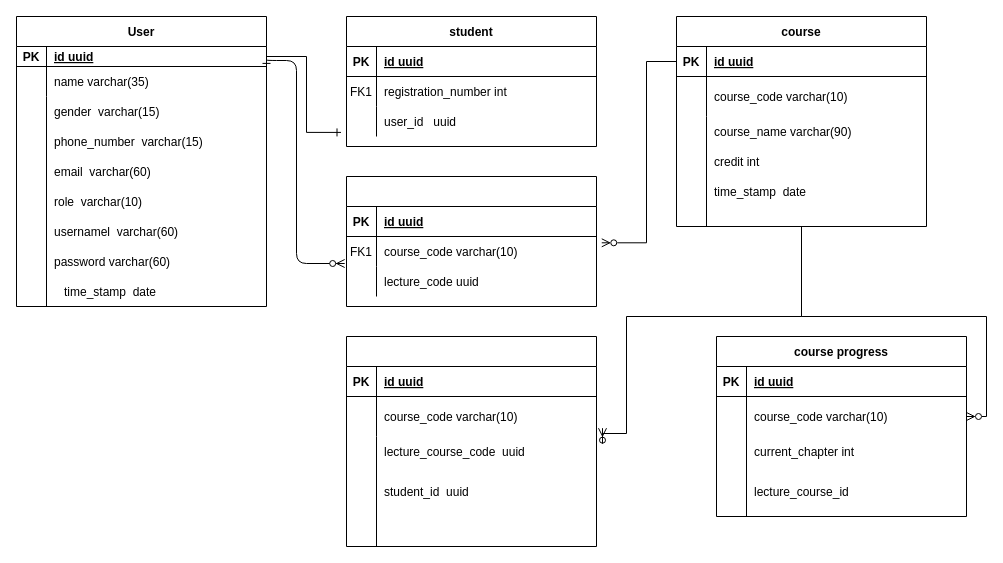
The diagram is 1003 pixels wide and 563 high, and some of its shapes have lost their labels. Each missing label, with the box of its shape:
course review: (346, 336, 596, 546)
lecture courses: (346, 176, 596, 306)
